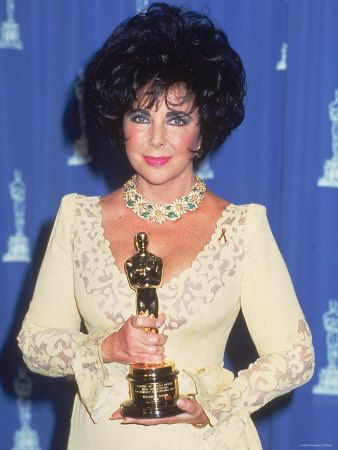hand: (107, 312, 163, 357)
